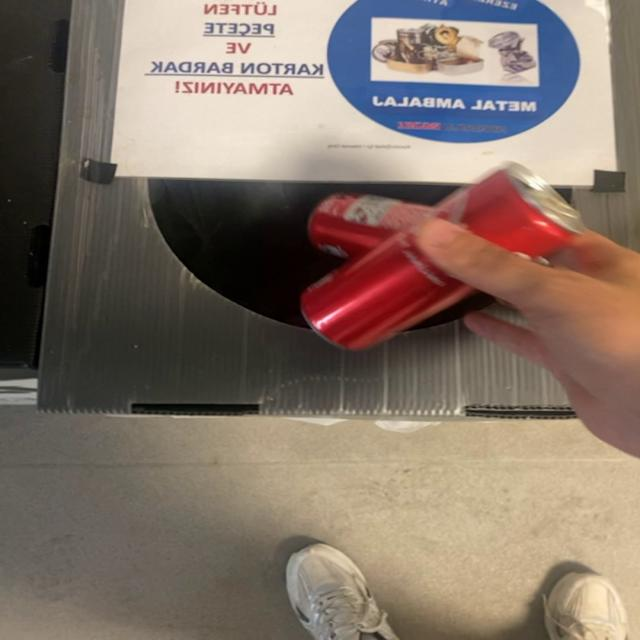bin: (39, 0, 570, 417), (575, 0, 639, 242)
metal: (302, 192, 475, 350), (473, 164, 585, 255)
